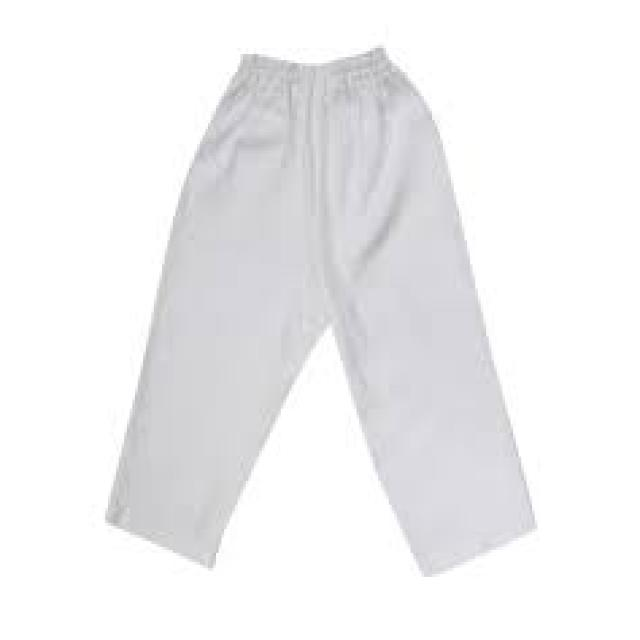long-pants: (103, 44, 536, 580)
